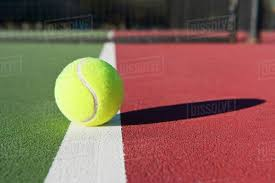tennis_ball: (52, 56, 125, 126)
